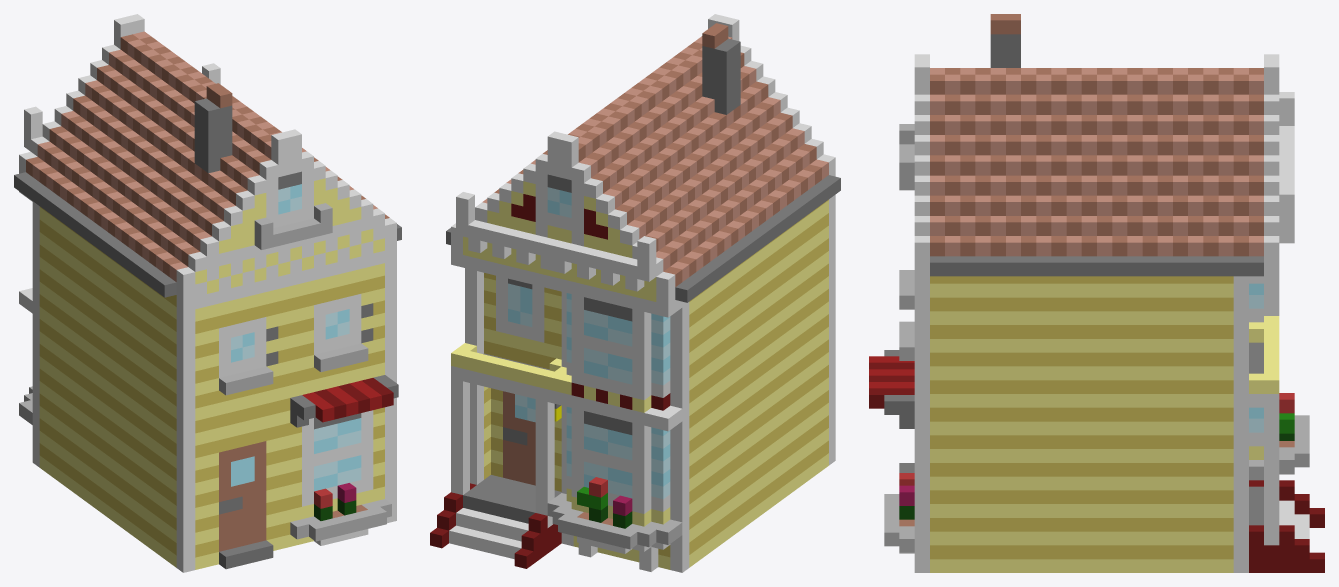
Rendered from YellowHouse.obj.
3 views of the same model, side by side, from view 1: azimuth 30°, elevation 25°; view 2: azimuth 150°, elevation 25°; view 3: azimuth 270°, elevation 25° (orthographic). The views are drawn at different scales.
Size of the model in its own units: 2 by 3.5 by 3.
Materials: 1 (1 with a texture image).
